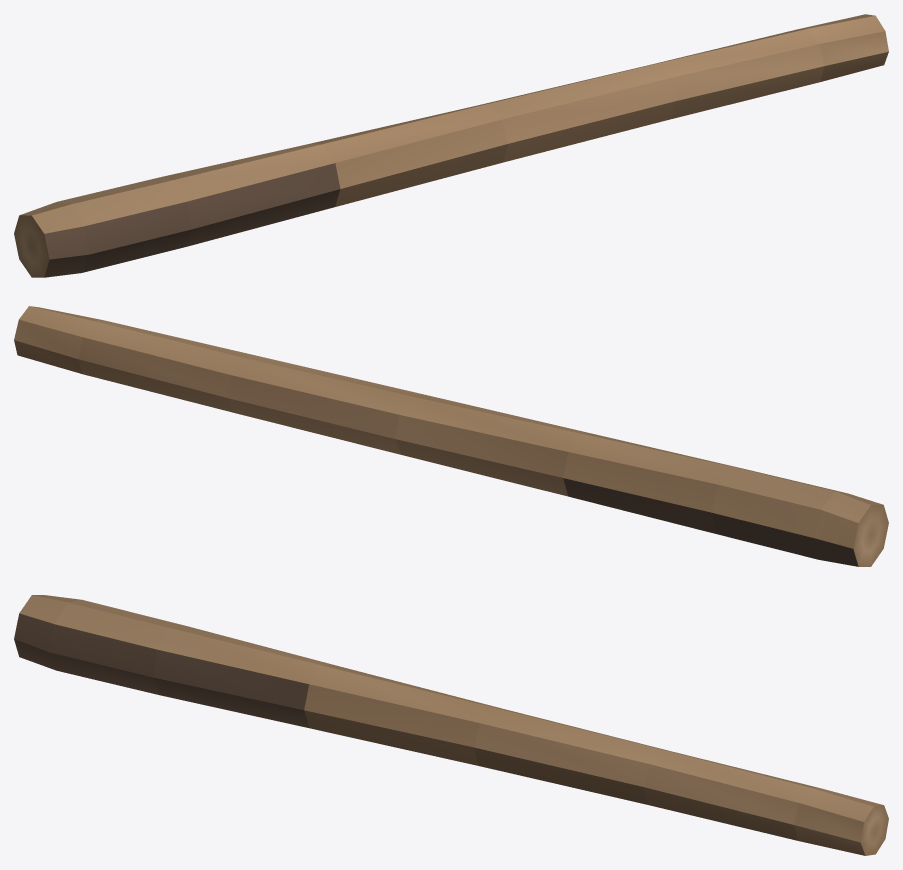
Rendered from handle.glb.
The picture shows the model from 3 angles, top to bottom: view 1: azimuth 30°, elevation 25°; view 2: azimuth 150°, elevation 25°; view 3: azimuth 330°, elevation 25°; orthographic projection.
Parts seen in each view (by area): view 1: handle; view 2: handle; view 3: handle.
Part boxes in pixels (x1,y1,x2,y2): handle: (14, 14, 888, 277); handle: (14, 306, 888, 566); handle: (14, 595, 888, 855).
Size of the model in its own units: 0.4501 by 0.0349 by 0.0363.
